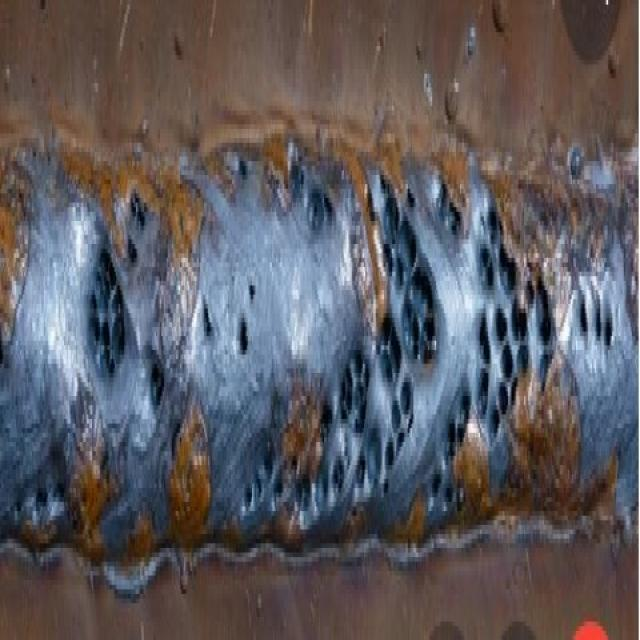Porosity: (0, 141, 638, 586)
